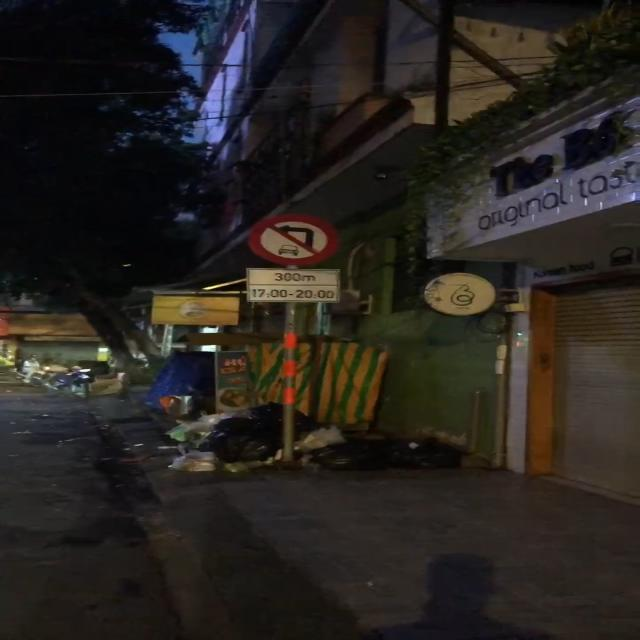Bien bao cam xe o to re trai: (246, 213, 338, 265)
